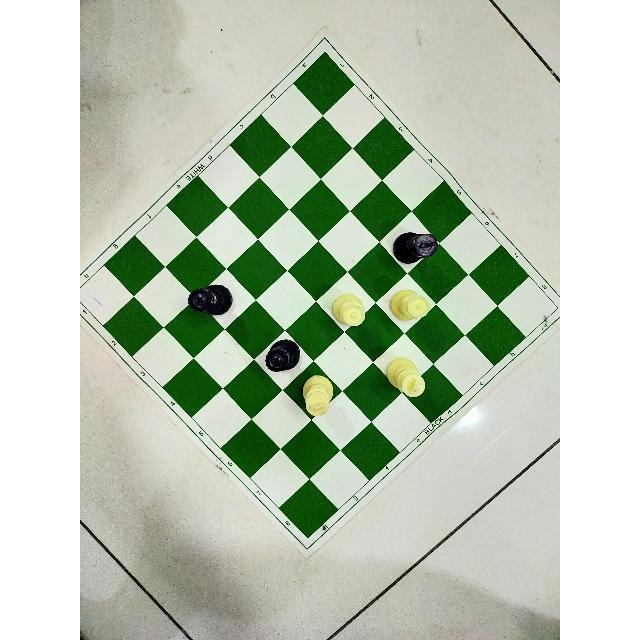black-king: (391, 231, 443, 265)
black-queen: (186, 284, 234, 320), (265, 338, 301, 372)
white-king: (384, 358, 428, 400), (301, 375, 335, 419)
white-queen: (387, 285, 440, 324), (324, 290, 368, 329)
